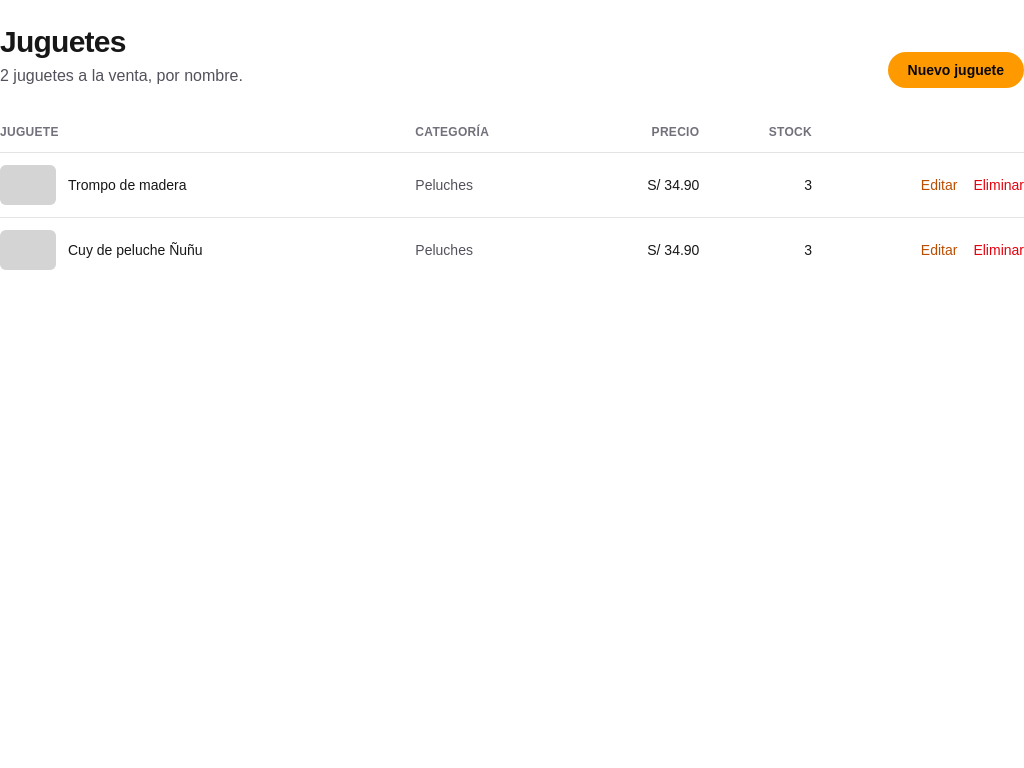
Test: VistaAdminJuguetes: eliminar (HU-20) › Escape también cancela
Click the button with aria-label "Eliminar Trompo de madera". click: (999, 185)
box: [973,175,1023,195]
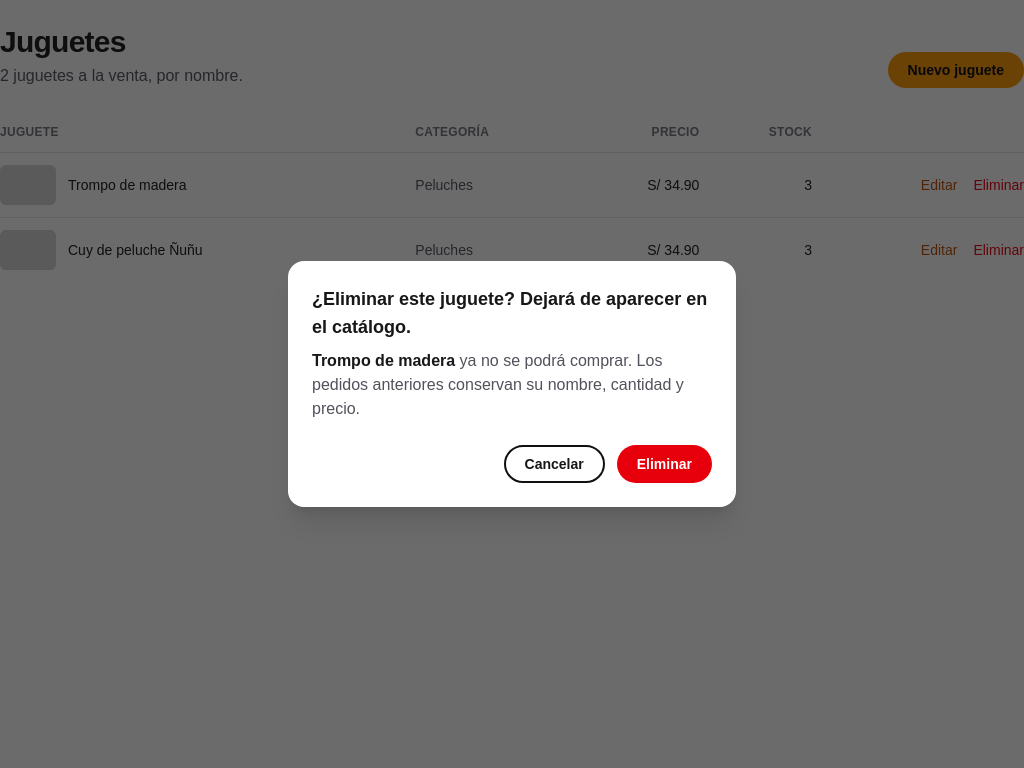
Press Escape
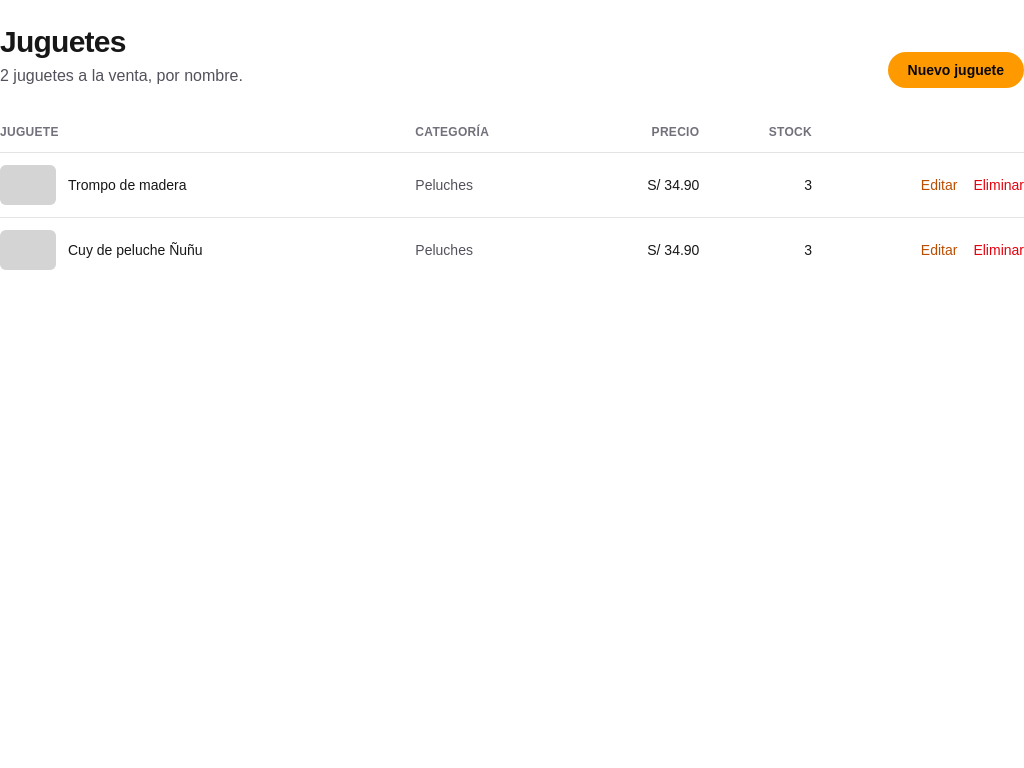
Expected: the dialog is gone
